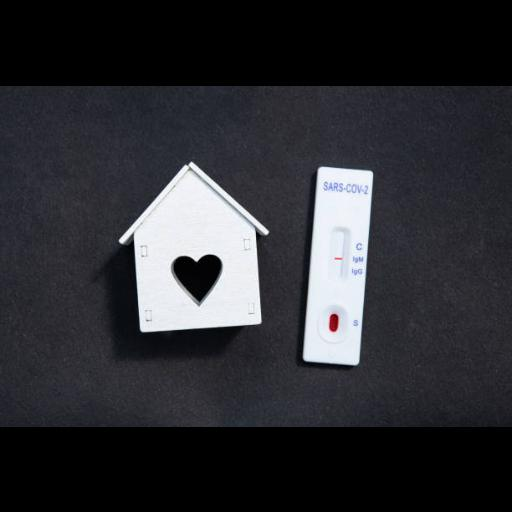Neg: (303, 166, 374, 366)
